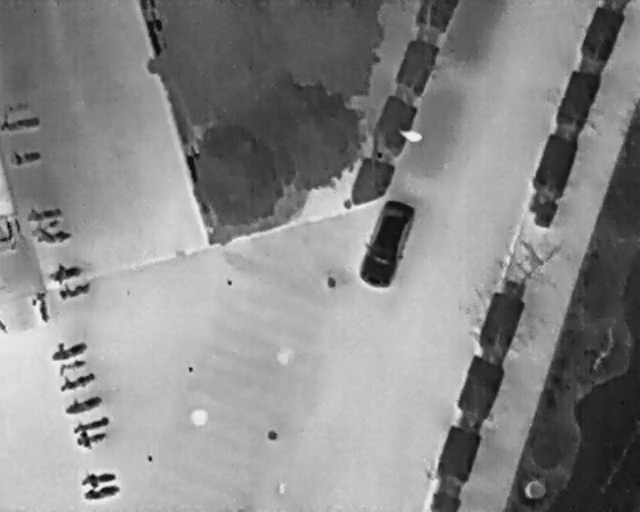Bicycle: (46, 334, 91, 365), (54, 365, 98, 395), (60, 389, 104, 419), (66, 410, 112, 438), (71, 425, 110, 452), (55, 276, 94, 302), (78, 465, 117, 491), (80, 480, 123, 503), (28, 289, 54, 325), (47, 261, 84, 285), (53, 354, 89, 378), (25, 215, 61, 238), (24, 202, 63, 223), (0, 114, 42, 132), (11, 148, 43, 168), (33, 229, 74, 244), (0, 319, 9, 334)
Car: (352, 193, 419, 294)
Person: (277, 482, 286, 495)
